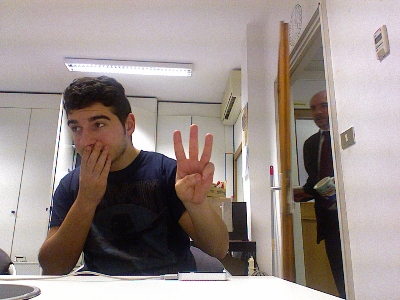三分: (171, 124, 215, 204)
